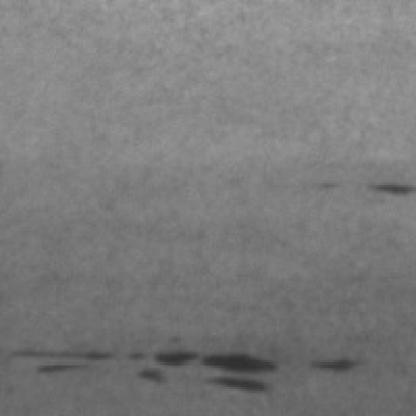inclusion: (0, 341, 281, 393), (304, 345, 360, 379), (345, 170, 414, 196)
